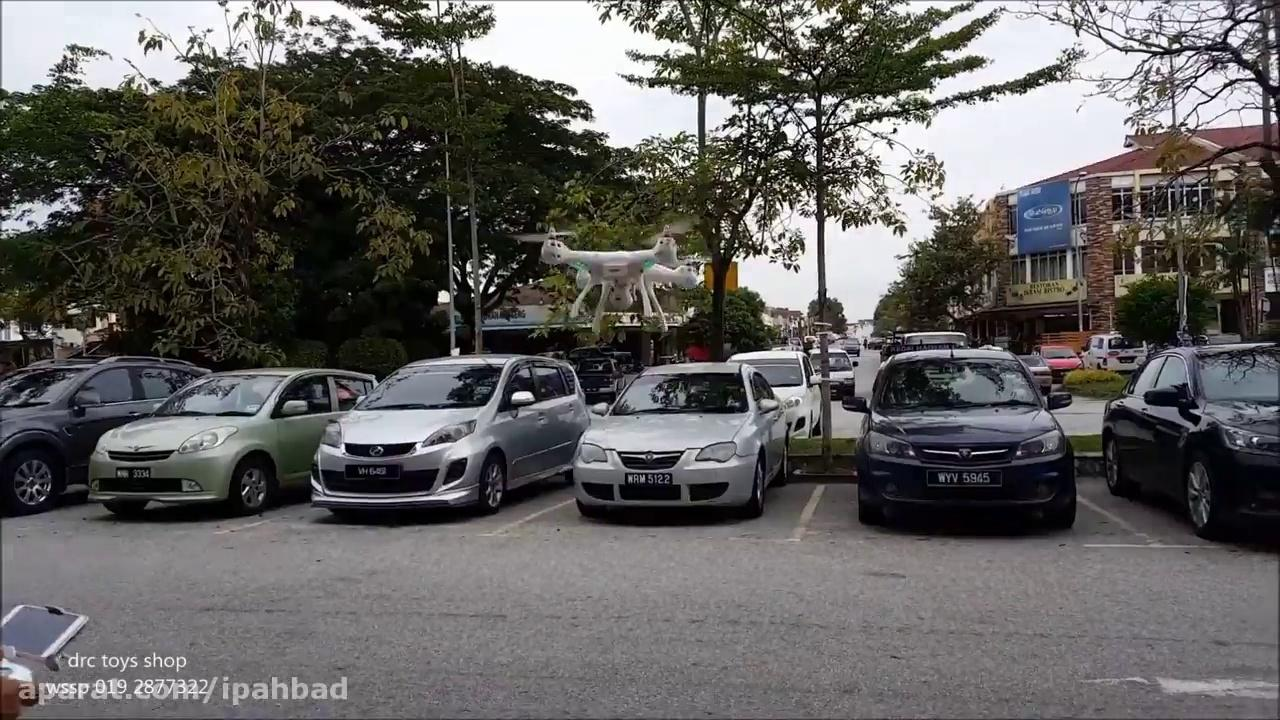drone: (522, 216, 712, 332)
